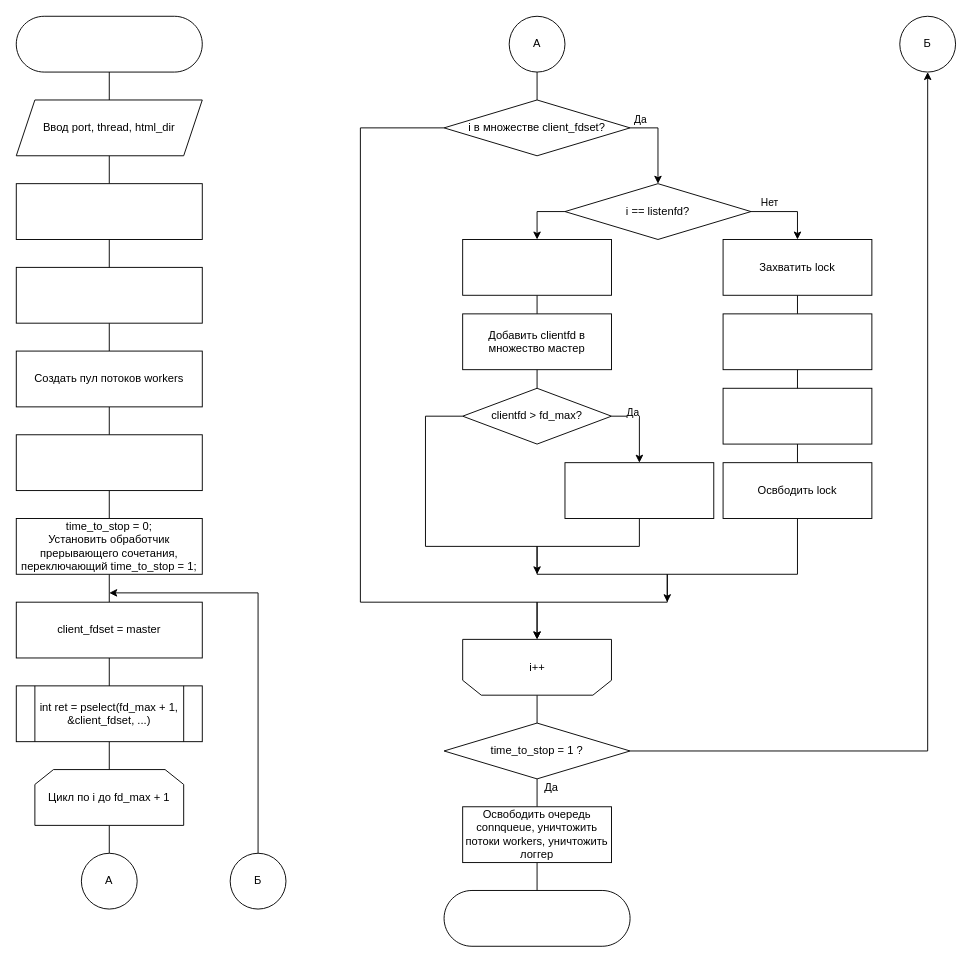
The diagram is 972 pixels wide and 963 high, and some of its shapes have lost their labels. Each missing label, with the box of its shape:
fd_max = clientfd: (564, 462, 714, 518)
Добавить i в очередь connqueue: (722, 387, 872, 444)
Конец: (443, 890, 630, 946)
Начало: (15, 15, 202, 72)
Принять соединение на новом сокете clientfd: (462, 239, 611, 295)
Создать логгер и наборы сокетов master, client_fdset: (15, 434, 202, 491)
Создать очередь запросов connqueue и мьютекс очереди lock: (15, 266, 202, 323)
Создать прослушивающий сокет listenfd на порту port fd_max = listenfd: (15, 183, 202, 239)
Убрать i из master: (722, 313, 872, 370)
